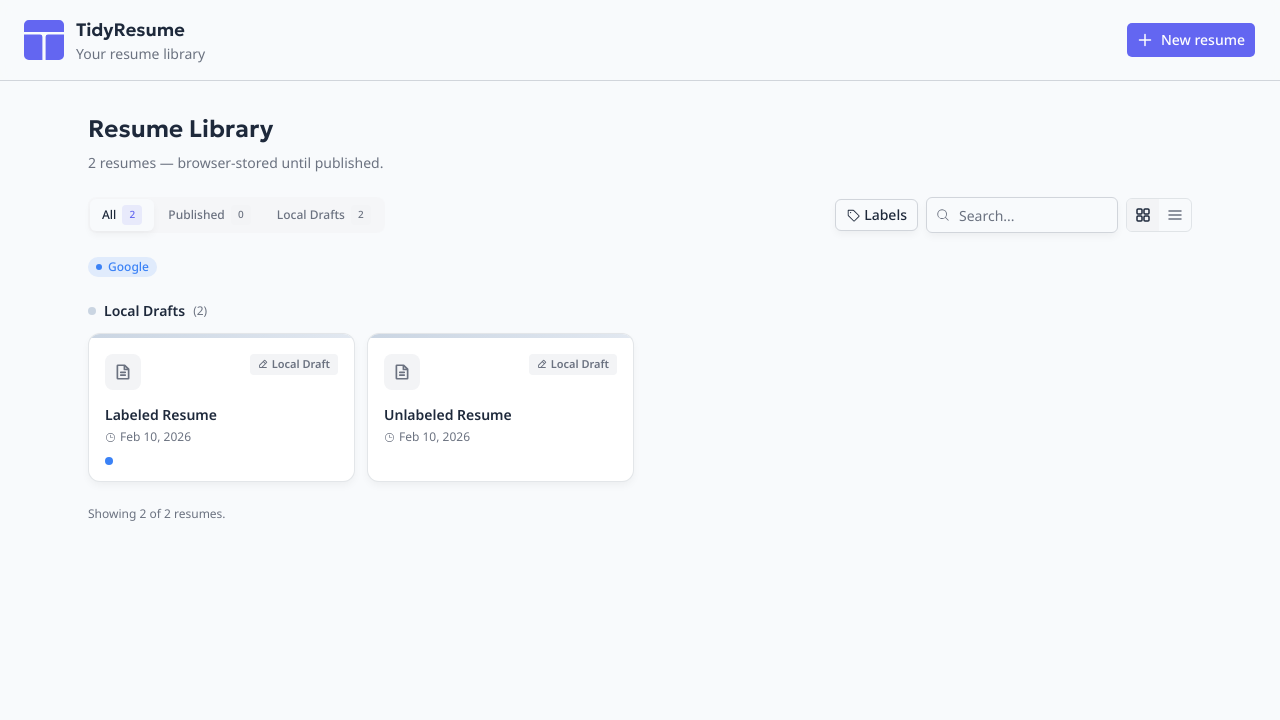
ResumeLibrary (labels) › filters resumes by label when a label chip is clicked
Expected: the button "Labeled Resume" is shown, 105,405 -> 338,425
Expected: the button "Unlabeled Resume" is shown, 384,405 -> 617,425
Click the button "Google": (122, 267) 88,257 -> 157,277
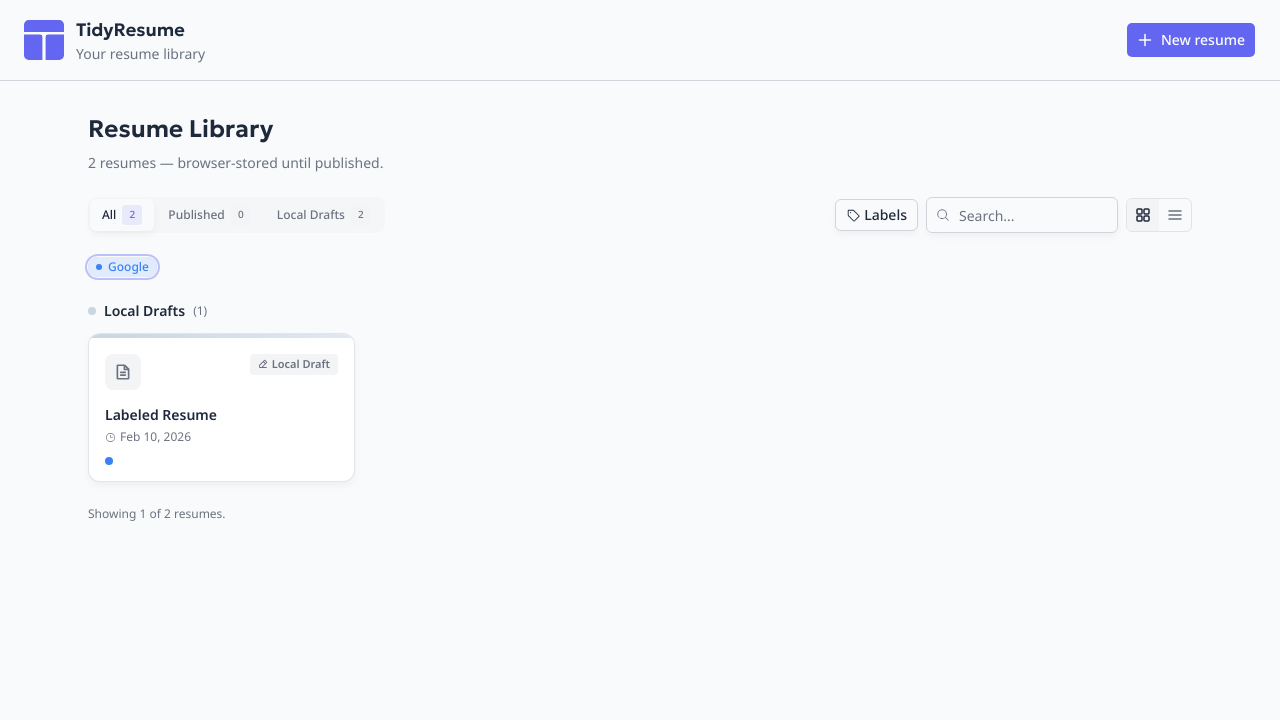
Expected: the button "Labeled Resume" is shown, 105,405 -> 338,425
Expected: the button "Unlabeled Resume" is gone
